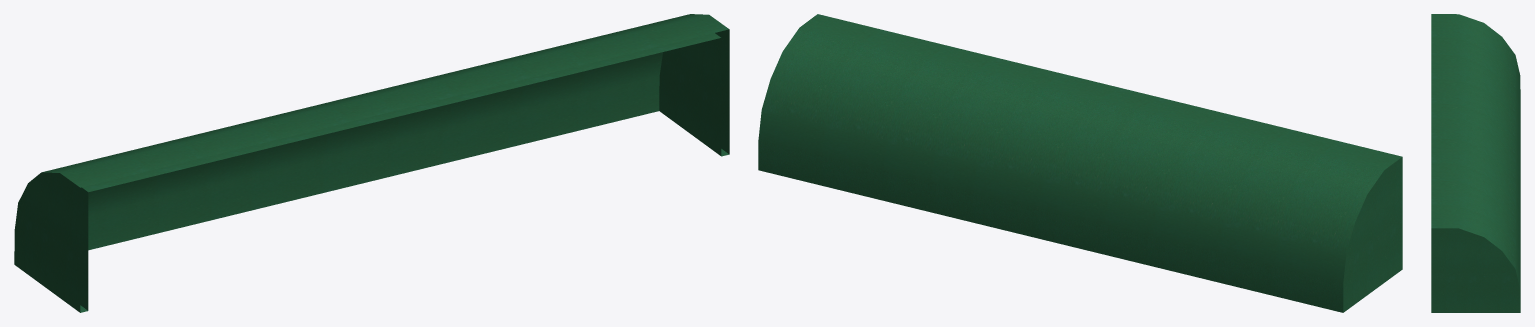
3 views of the same model, side by side, from view 1: azimuth 30°, elevation 25°; view 2: azimuth 150°, elevation 25°; view 3: azimuth 270°, elevation 25° (orthographic). The views are drawn at different scales.
Parts seen in each view (by area): view 1: Cylinder (16); view 2: Cylinder (16); view 3: Cylinder (16).
Part boxes in pixels (bbox=[...]): Cylinder (16): bbox=[14, 14, 729, 312]; Cylinder (16): bbox=[758, 14, 1402, 312]; Cylinder (16): bbox=[1431, 14, 1520, 312].
Size of the model in its own units: 1278 by 236 by 225.
